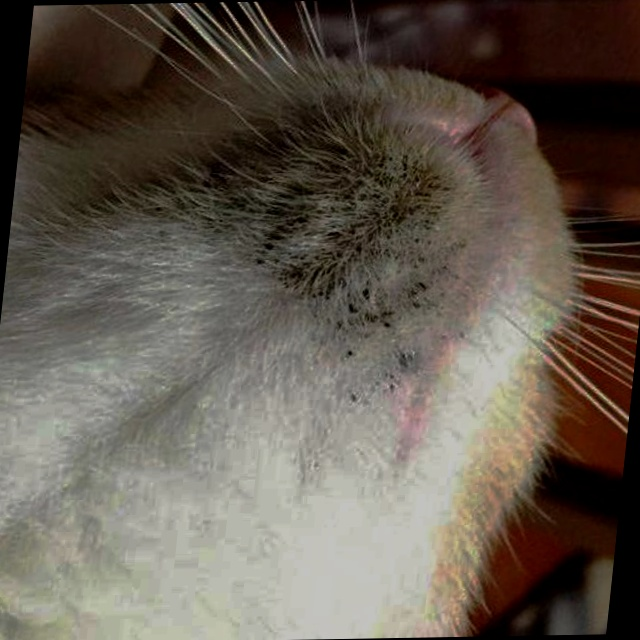acne: (180, 104, 481, 375)
